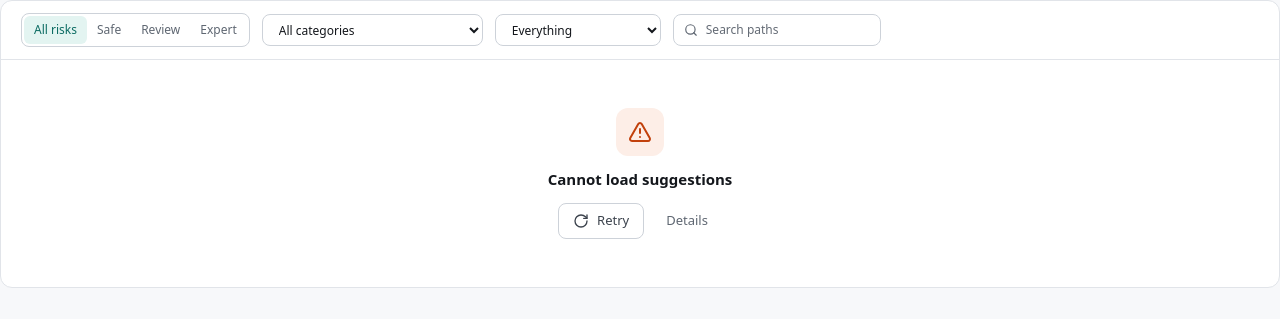
Test case: CandidateList states › shows an error with retry
Expected: the heading "Cannot load suggestions" is shown, [548,168,732,190]
What coordinates should you click on to do the following:
click the button "Retry"
I would click on:
 (601, 220)
Its box is [558,202,644,238].
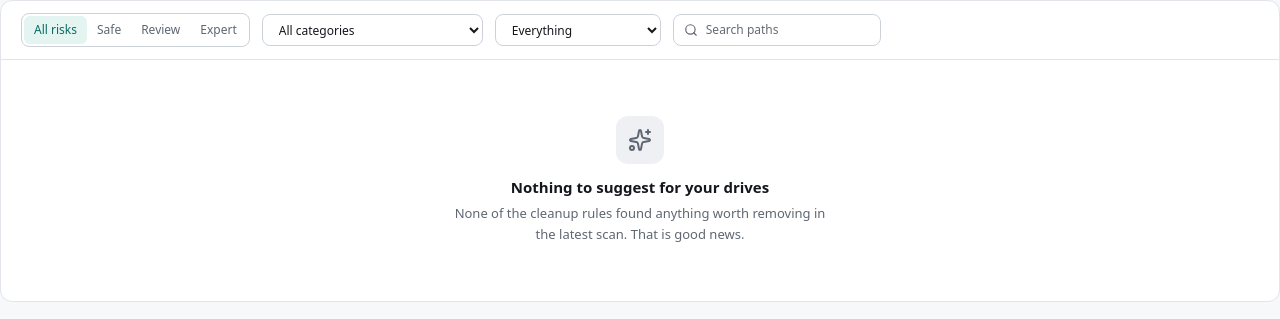
Now the heading "Nothing to suggest for your drives" is shown, box [511,177,769,197]
